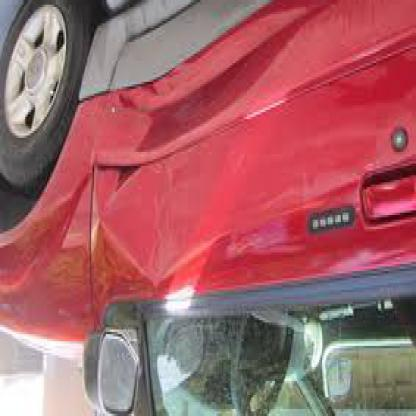dent: (94, 155, 218, 291)
